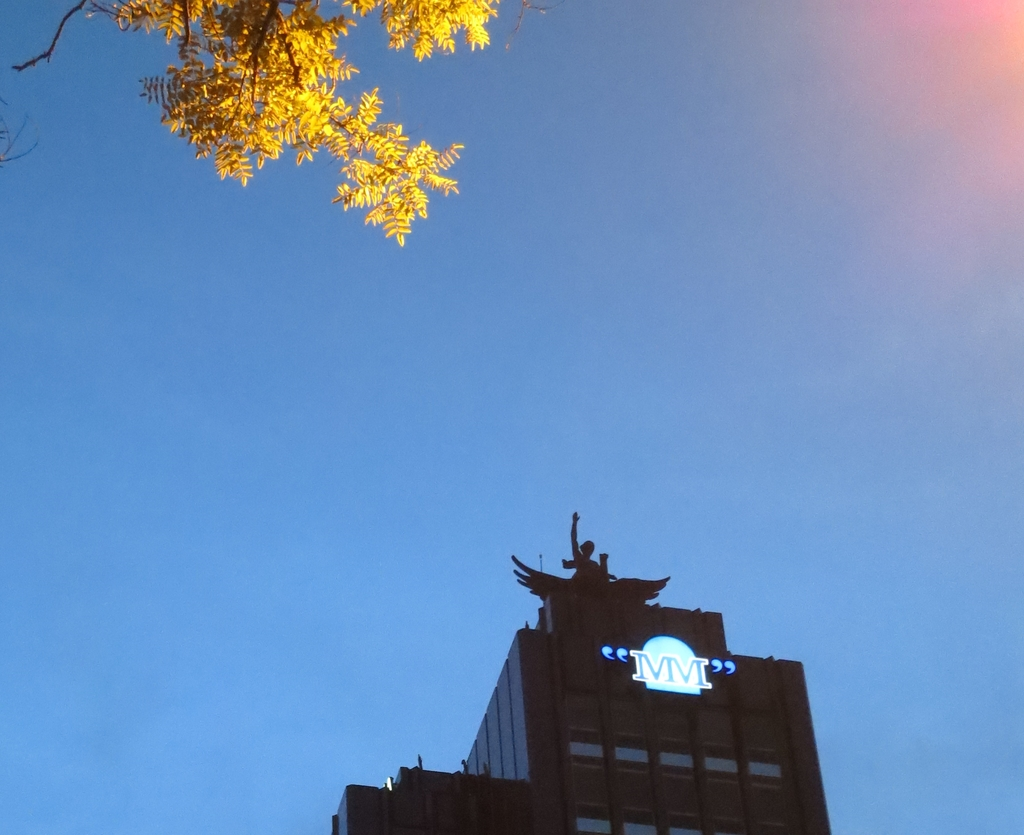Tree: (12, 4, 497, 247)
